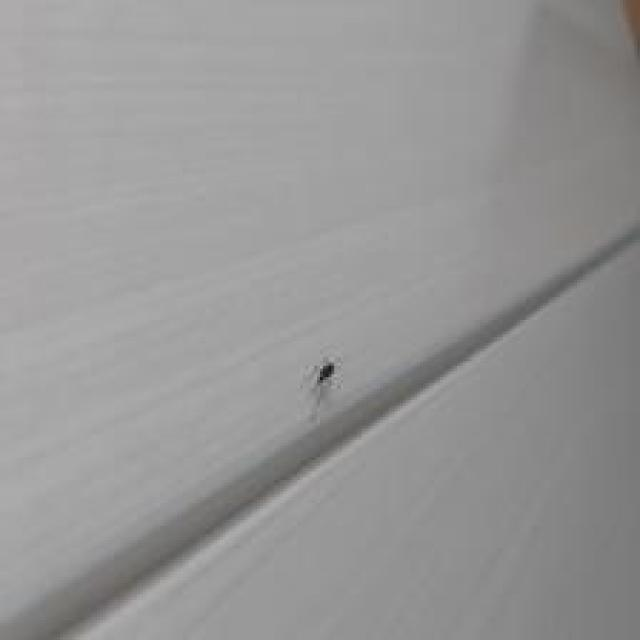Aedes albopictus: (306, 356, 337, 421)
